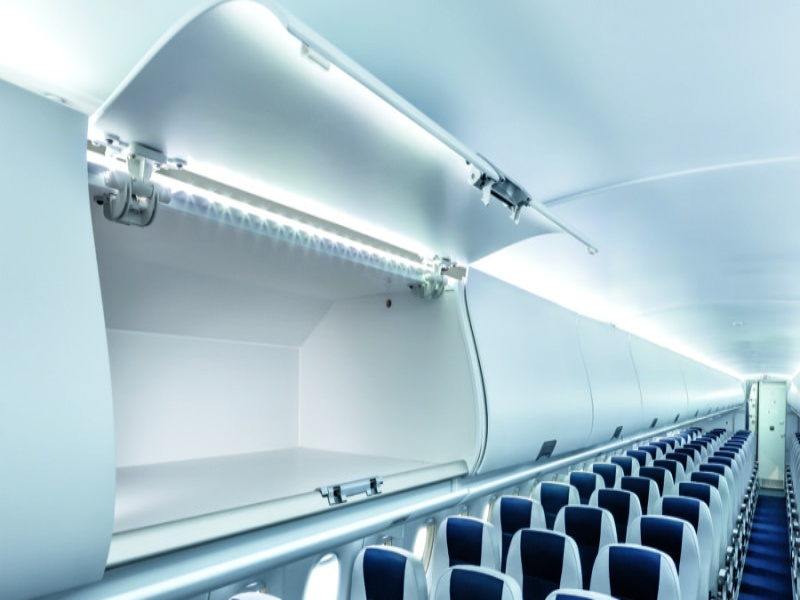close_bin: (469, 271, 590, 457), (579, 316, 651, 456), (634, 332, 692, 435), (685, 359, 708, 426), (705, 368, 730, 414), (729, 377, 744, 414)
open_bin: (82, 5, 531, 503)
